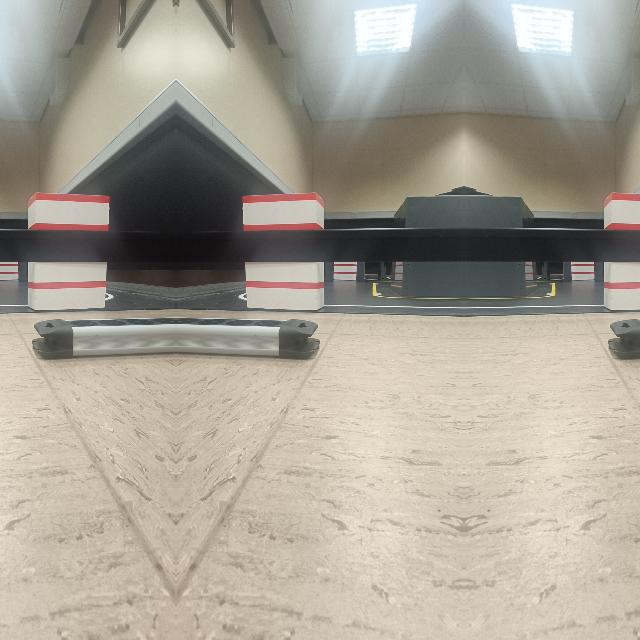obstacle: (175, 311, 319, 364), (31, 311, 175, 364), (608, 310, 640, 363)
